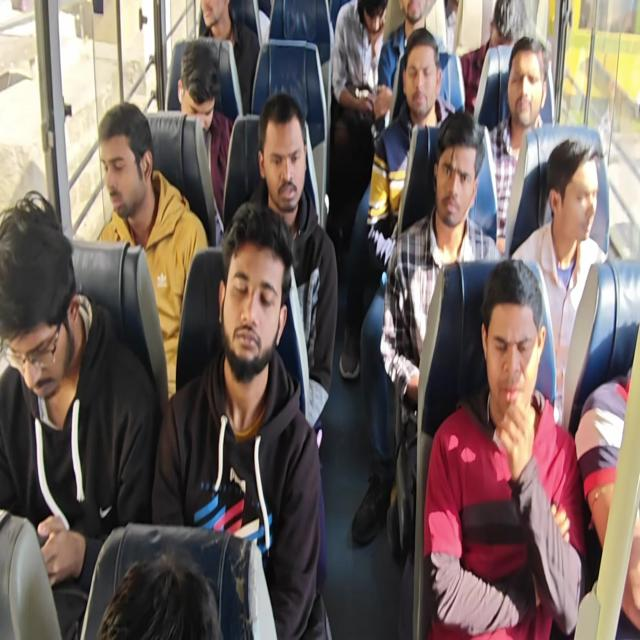person: (0, 200, 76, 408), (107, 512, 220, 640), (479, 287, 539, 424), (256, 102, 312, 224), (97, 112, 159, 216), (231, 231, 278, 365), (547, 146, 602, 247), (397, 31, 441, 111), (437, 131, 468, 229), (168, 64, 215, 122), (511, 39, 539, 125), (482, 0, 524, 53), (185, 0, 234, 41), (353, 0, 385, 46), (394, 0, 434, 31)
